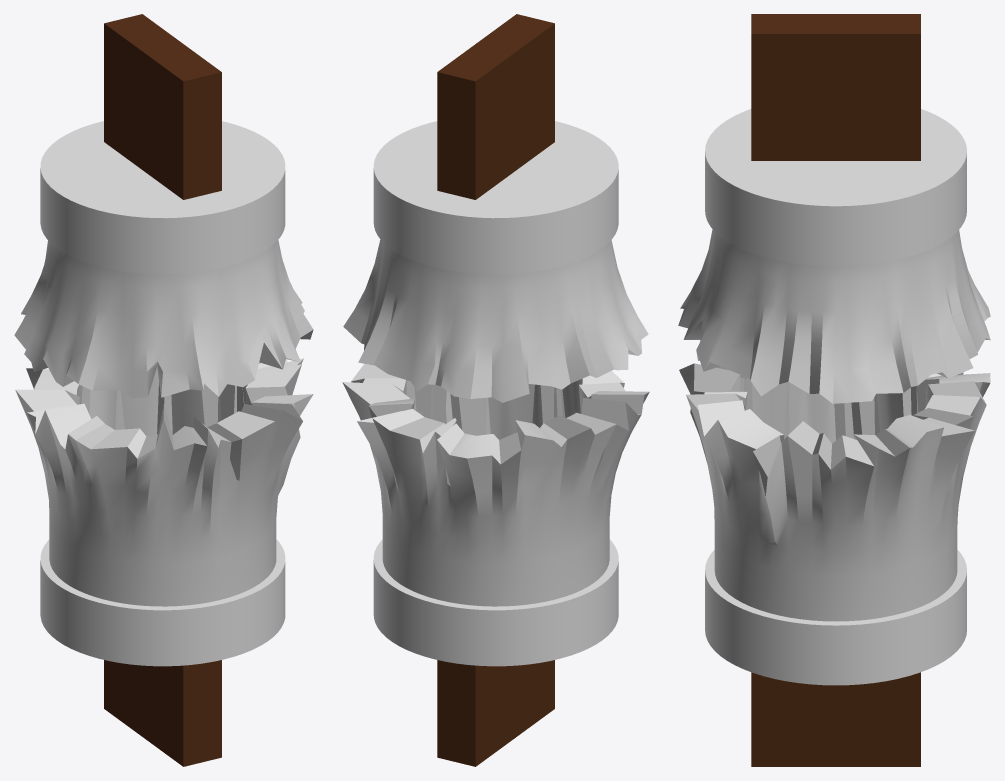
The model's file is broken_fuse.fbx.
3 views of the same model, side by side, from view 1: azimuth 30°, elevation 25°; view 2: azimuth 150°, elevation 25°; view 3: azimuth 270°, elevation 25° (orthographic). The views are drawn at different scales.
Visible parts, largest first — view 1: broken_fuse; view 2: broken_fuse; view 3: broken_fuse.
Boxes of the visible parts, x1,y1,x2,y2 form: broken_fuse: (14, 14, 313, 766); broken_fuse: (342, 14, 649, 766); broken_fuse: (678, 14, 990, 766).
Size of the model in its own units: 11.02 by 27.43 by 10.6.
